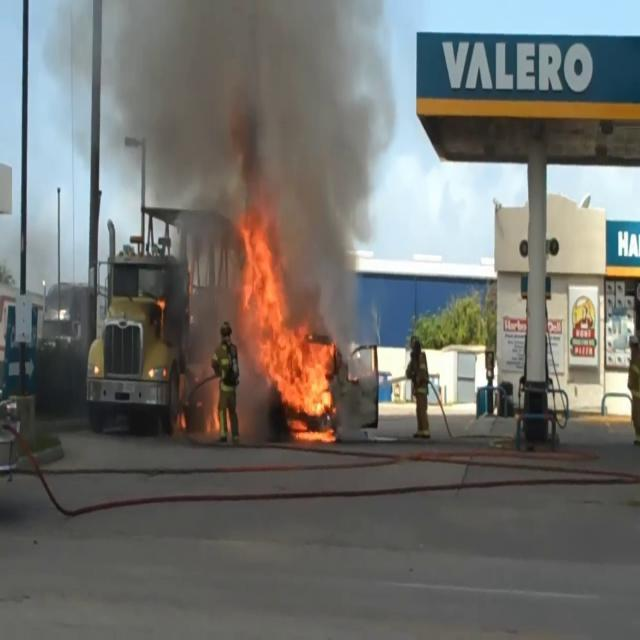Fire: (236, 214, 340, 436)
Smoke: (123, 0, 403, 314)
